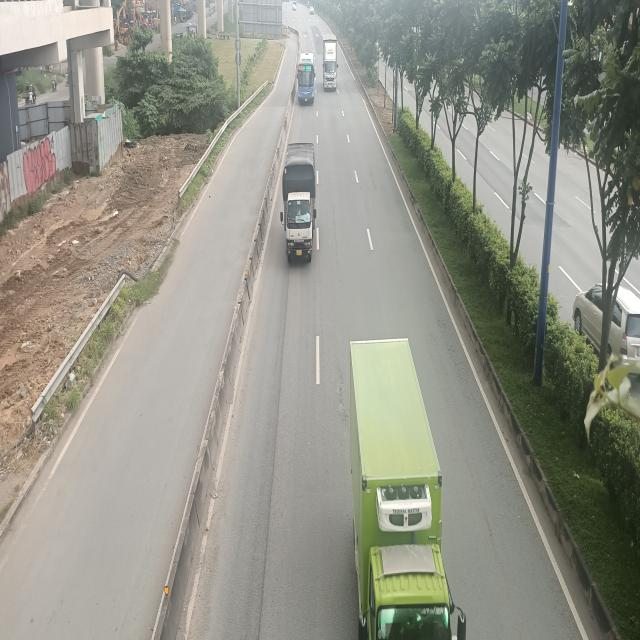coach: (295, 53, 315, 106)
truck: (350, 339, 470, 638), (280, 142, 318, 262), (323, 36, 338, 92)
